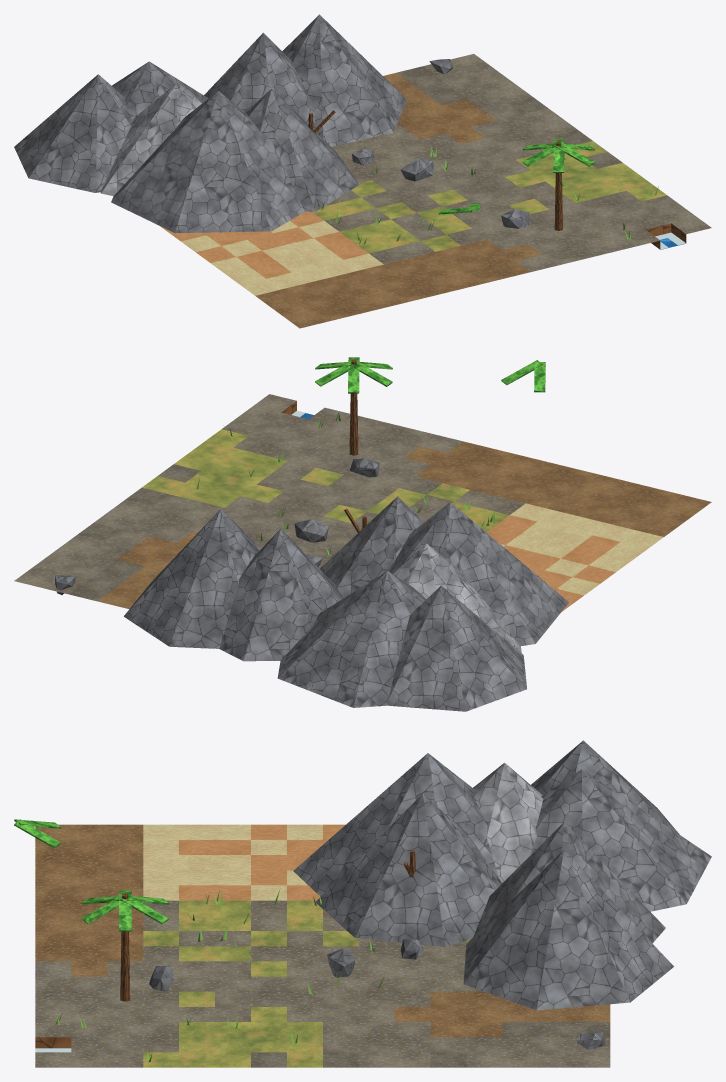
Rendered from chunk_9_20.glb.
3 renders of one model, top to bottom at view 1: azimuth 30°, elevation 25°; view 2: azimuth 150°, elevation 25°; view 3: azimuth 270°, elevation 25°, orthographic. The views are drawn at different scales.
Parts seen in each view (by area): view 1: chunk_9_20; view 2: chunk_9_20; view 3: chunk_9_20.
Part boxes in pixels (bbox=[...]): chunk_9_20: bbox=[14, 14, 711, 328]; chunk_9_20: bbox=[14, 357, 711, 711]; chunk_9_20: bbox=[14, 740, 711, 1067].
Size of the model in its own units: 17.92 by 4.03 by 19.43.
14 materials, 12 textured.
